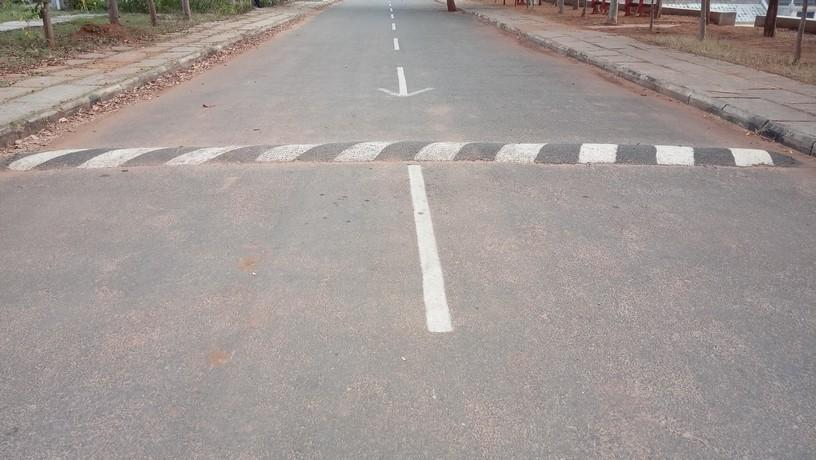speedbreaker: (1, 139, 807, 178)
